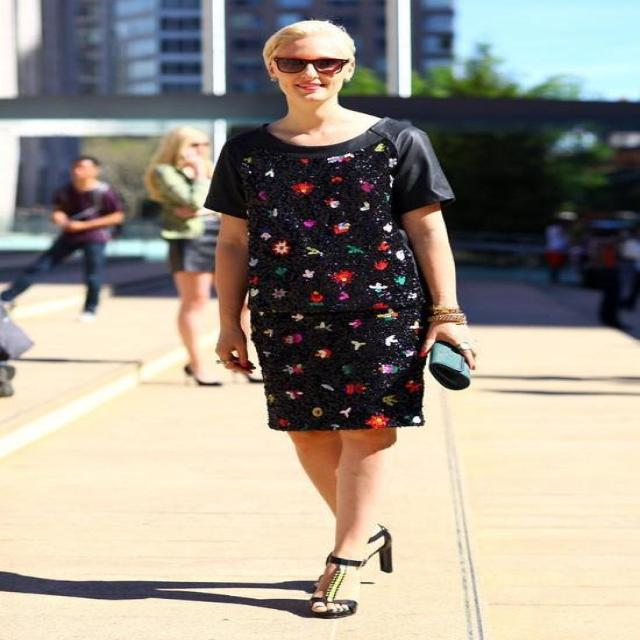dress: (207, 117, 456, 429)
